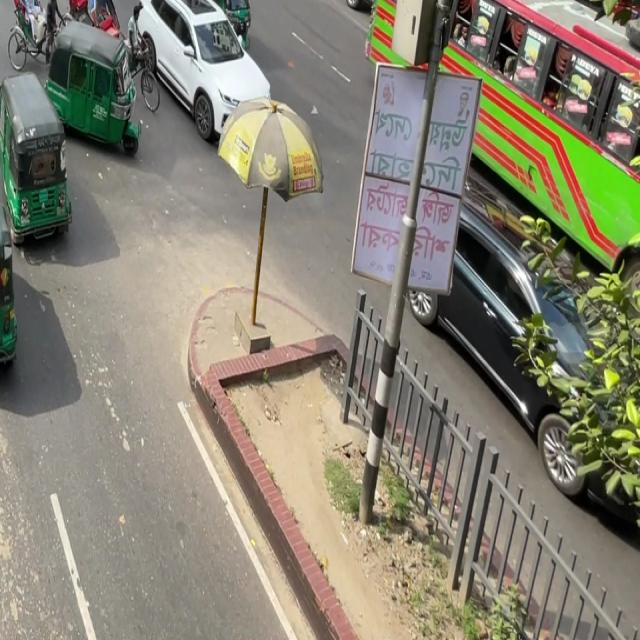car: (123, 0, 279, 152)
rickshaw: (0, 65, 87, 261), (40, 14, 149, 168), (0, 143, 39, 402)
